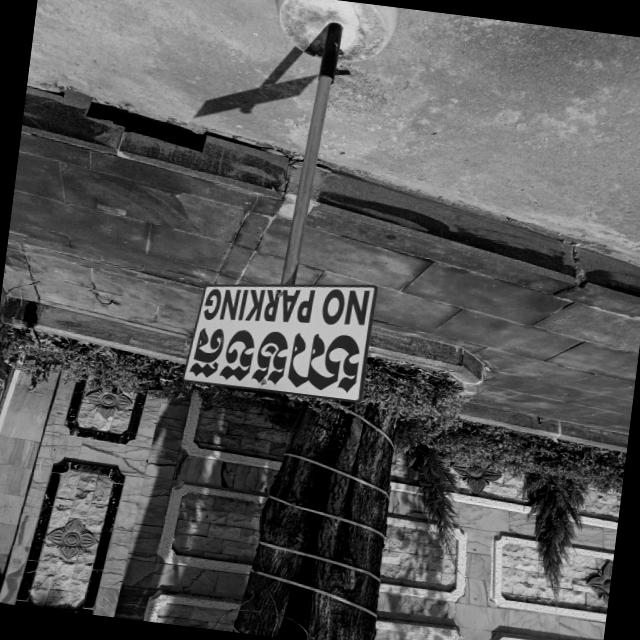Yolov11kh: (155, 311, 389, 404)
